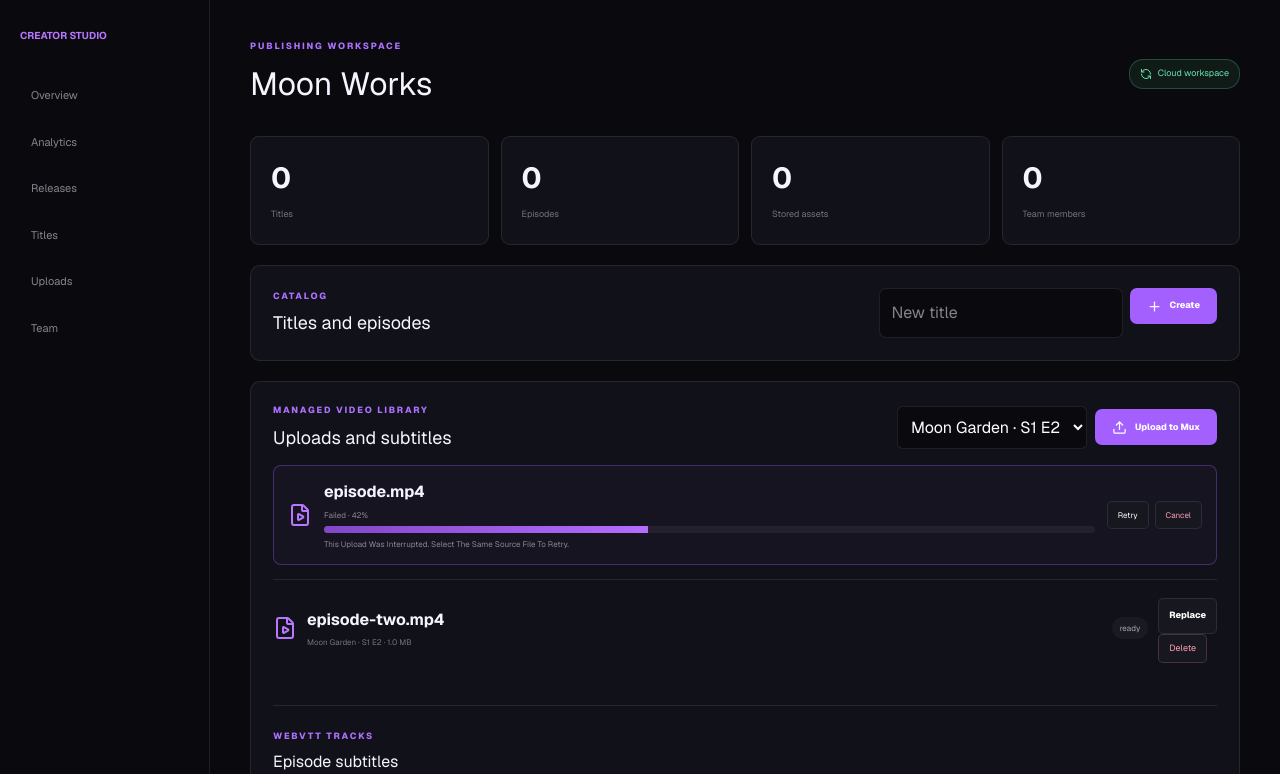
Test case: creator workspace › connects a selected cloud episode to the Mux uploader
Check: the dropdown named "Video episode" shows "Moon Garden · S1 E2", box [897,406,1087,449]
Check: the file field labelled "Upload to Mux" is enabled, box [1095,409,1217,445]
Click the button "Delete".
click(1183, 648)  # box [1158,634,1207,663]
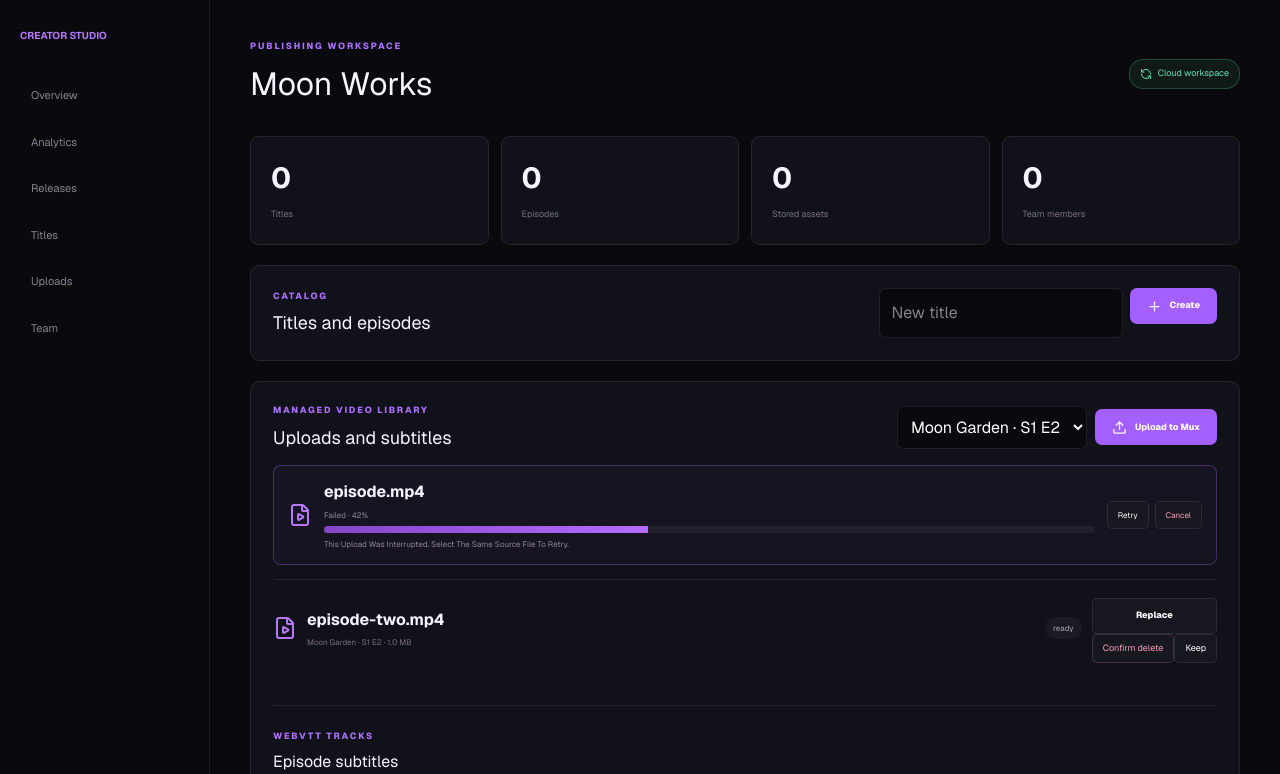
Check: the button "Confirm delete" is enabled, box [1092,634,1174,663]
Check: the button "Keep" is enabled, box [1174,634,1217,663]
